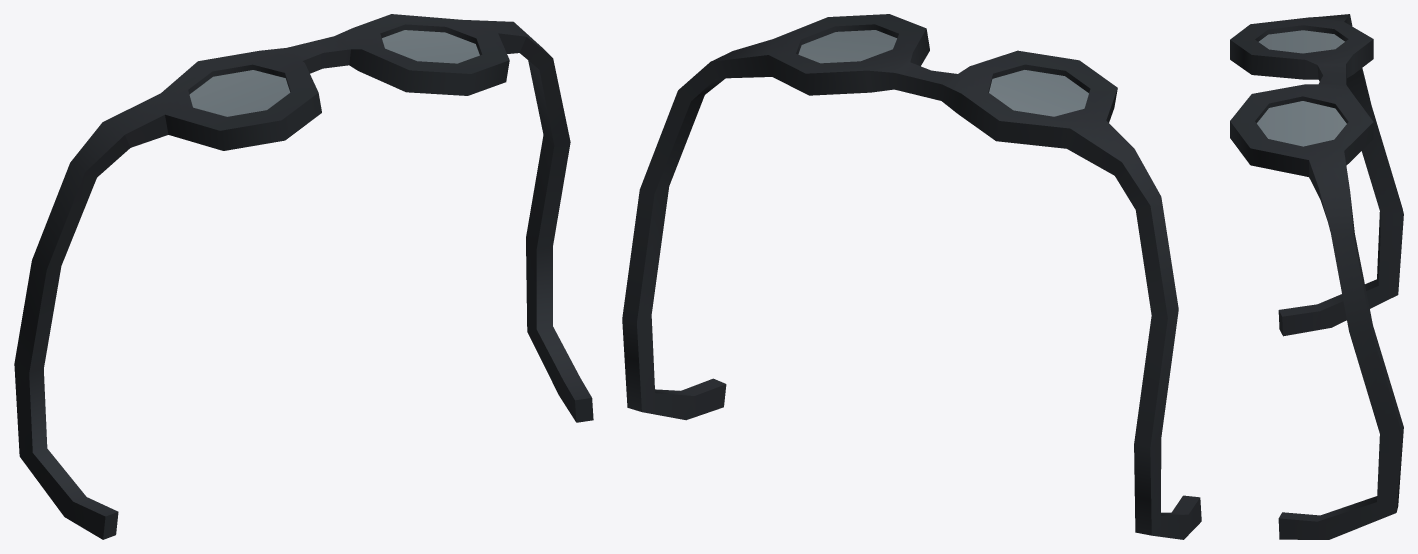
Rendered from Sunglases_Collection.fbx.
The picture shows the model from 3 angles, left to right: view 1: azimuth 30°, elevation 25°; view 2: azimuth 150°, elevation 25°; view 3: azimuth 270°, elevation 25°; orthographic projection. The views are drawn at different scales.
Parts seen in each view (by area): view 1: glasses_02; view 2: glasses_02; view 3: glasses_02.
Part boxes in pixels (x1=…): glasses_02: x1=14, y1=14, x2=593, y2=539; glasses_02: x1=622, y1=14, x2=1201, y2=539; glasses_02: x1=1230, y1=14, x2=1403, y2=539.
Bounding box in the file's own units: 70.07 × 52.43 × 22.78.
2 materials, 2 textured.
